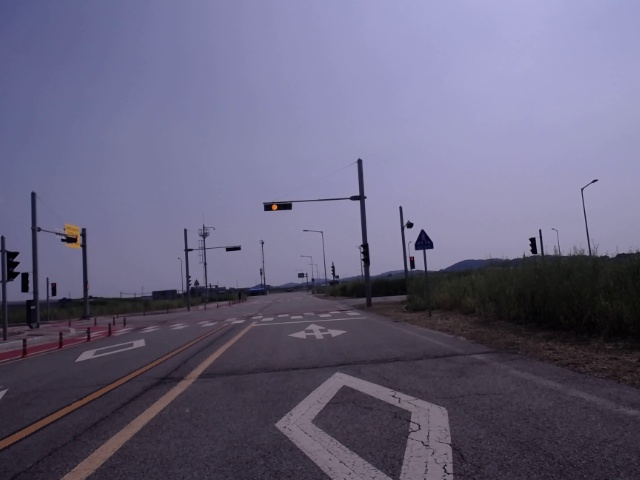orange_4: (262, 200, 293, 211)
